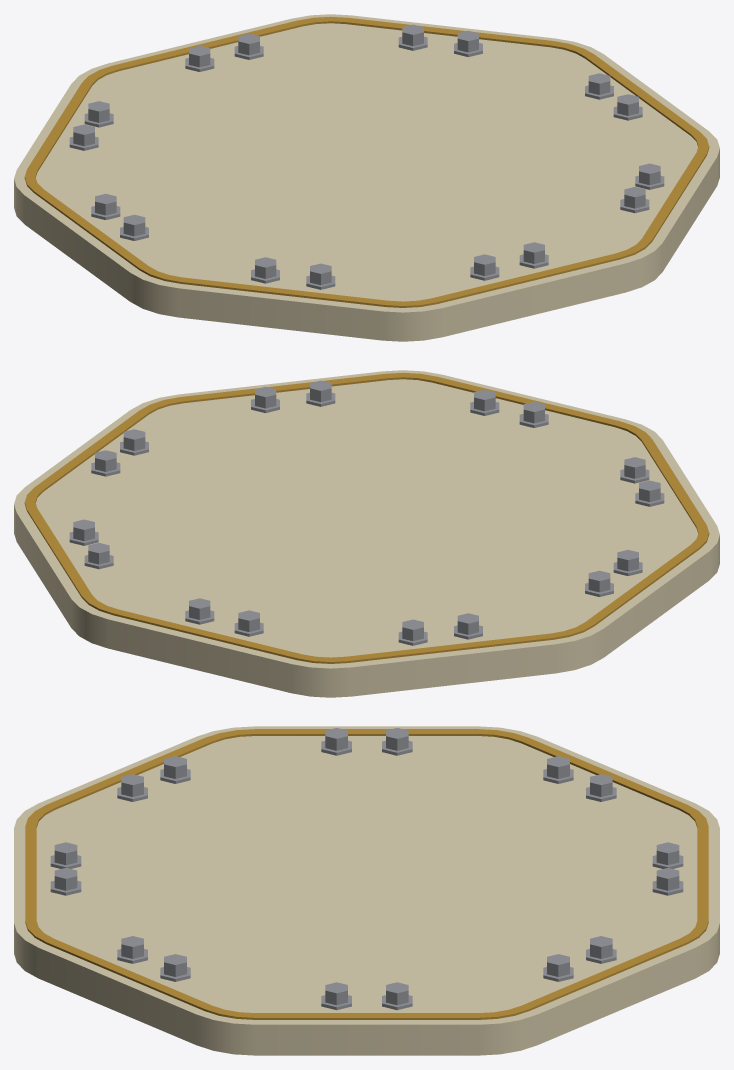
3 views of the same model, one above another, from view 1: azimuth 30°, elevation 25°; view 2: azimuth 150°, elevation 25°; view 3: azimuth 270°, elevation 25° (orthographic). The views are drawn at different scales.
Visible parts, largest first — view 1: pd3_base; view 2: pd3_base; view 3: pd3_base.
Boxes of the visible parts, <box> form: pd3_base: <box>14,14,719,341</box>; pd3_base: <box>14,370,719,697</box>; pd3_base: <box>14,726,719,1055</box>.
Size of the model in its own units: 1.87 by 0.1338 by 1.87.
